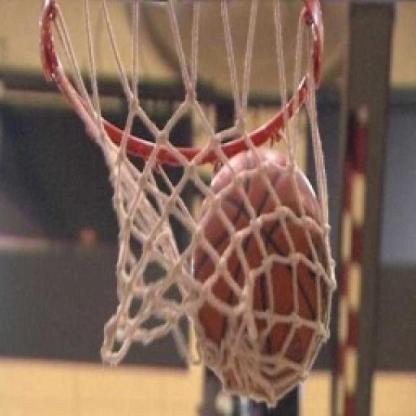basketball: (198, 149, 335, 395)
